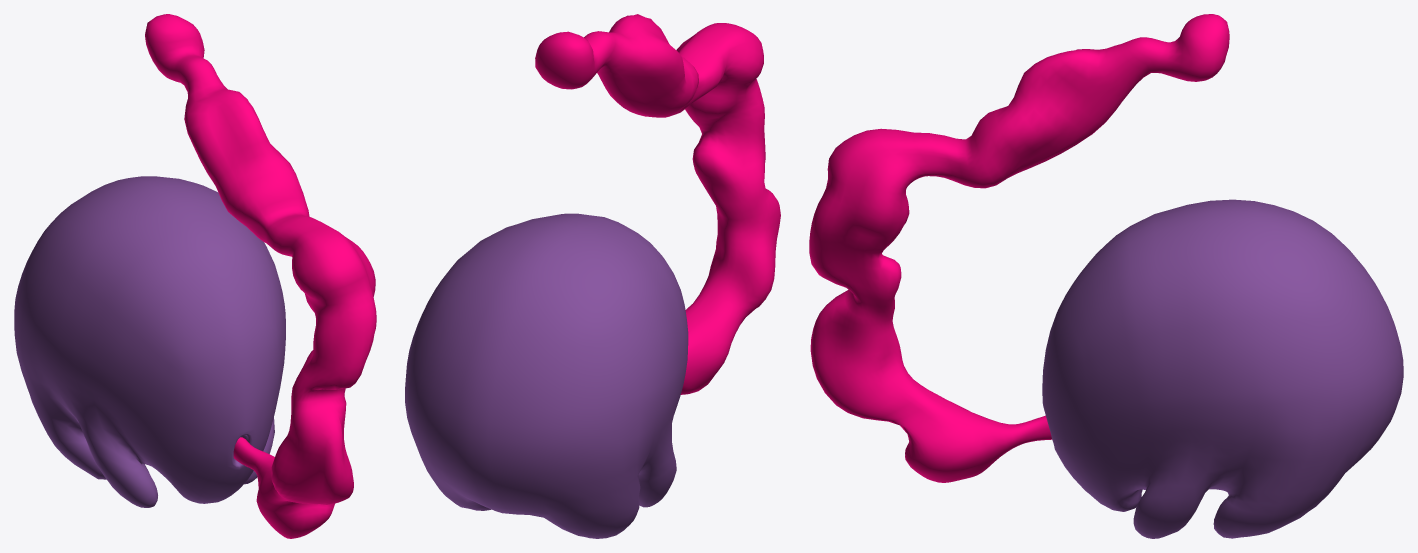
The picture shows the model from 3 angles, left to right: view 1: azimuth 30°, elevation 25°; view 2: azimuth 150°, elevation 25°; view 3: azimuth 270°, elevation 25°; orthographic projection. The views are drawn at different scales.
Visible parts, largest first — view 1: Musharna_Body_Geo, Musharna_Fog_Geo; view 2: Musharna_Body_Geo, Musharna_Fog_Geo; view 3: Musharna_Body_Geo, Musharna_Fog_Geo.
Boxes of the visible parts, x1,y1,x2,y2 form: Musharna_Body_Geo: [14, 176, 285, 507]; Musharna_Fog_Geo: [145, 14, 376, 538]; Musharna_Body_Geo: [405, 213, 688, 538]; Musharna_Fog_Geo: [535, 14, 780, 394]; Musharna_Body_Geo: [1042, 199, 1403, 538]; Musharna_Fog_Geo: [809, 14, 1229, 482].
Size of the model in its own units: 0.9284 by 1.83 by 2.
